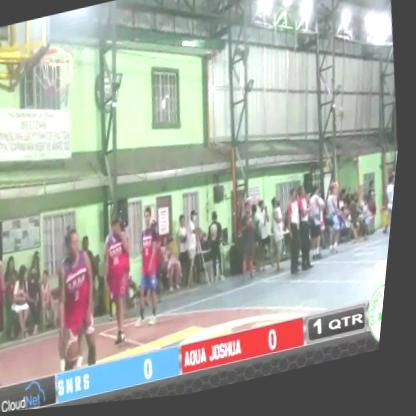basketball: (57, 330, 94, 377)
rim: (19, 31, 94, 133)
